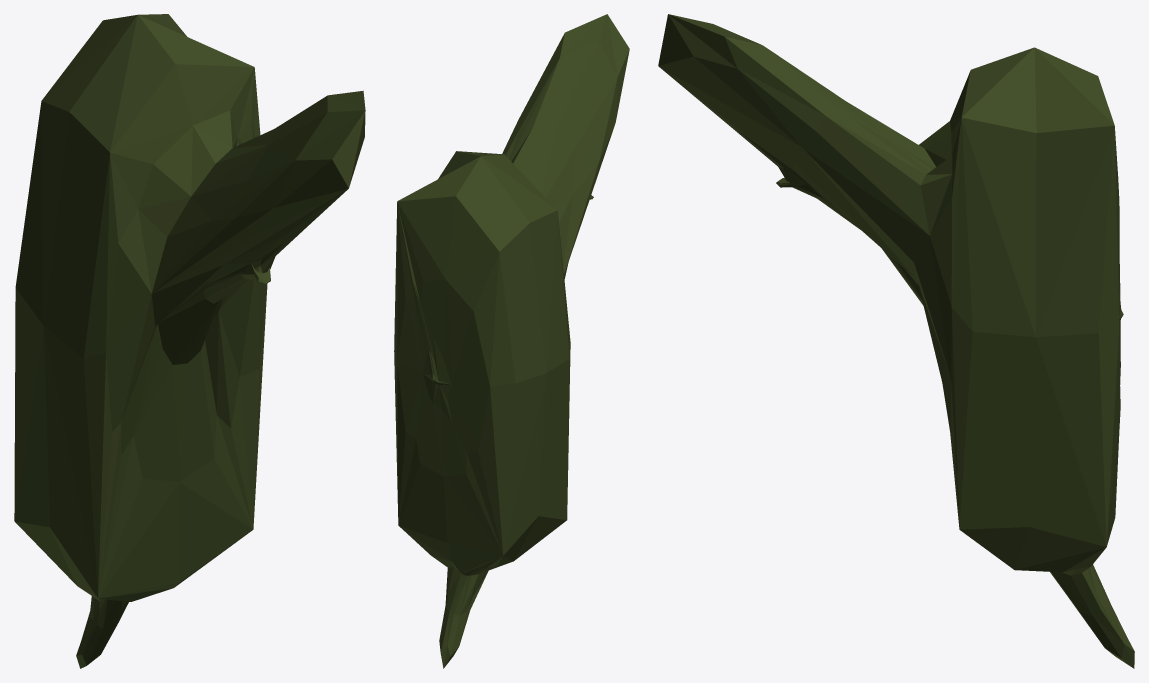
3 renders of one model, left to right at view 1: azimuth 30°, elevation 25°; view 2: azimuth 150°, elevation 25°; view 3: azimuth 270°, elevation 25°, orthographic. The views are drawn at different scales.
Parts seen in each view (by area): view 1: 151_Cube.629; view 2: 151_Cube.629; view 3: 151_Cube.629.
Boxes of the visible parts, <box> form: 151_Cube.629: <box>14,14,365,668</box>; 151_Cube.629: <box>394,14,629,668</box>; 151_Cube.629: <box>658,14,1134,668</box>.
Size of the model in its own units: 4.24 by 16.09 by 10.44.
